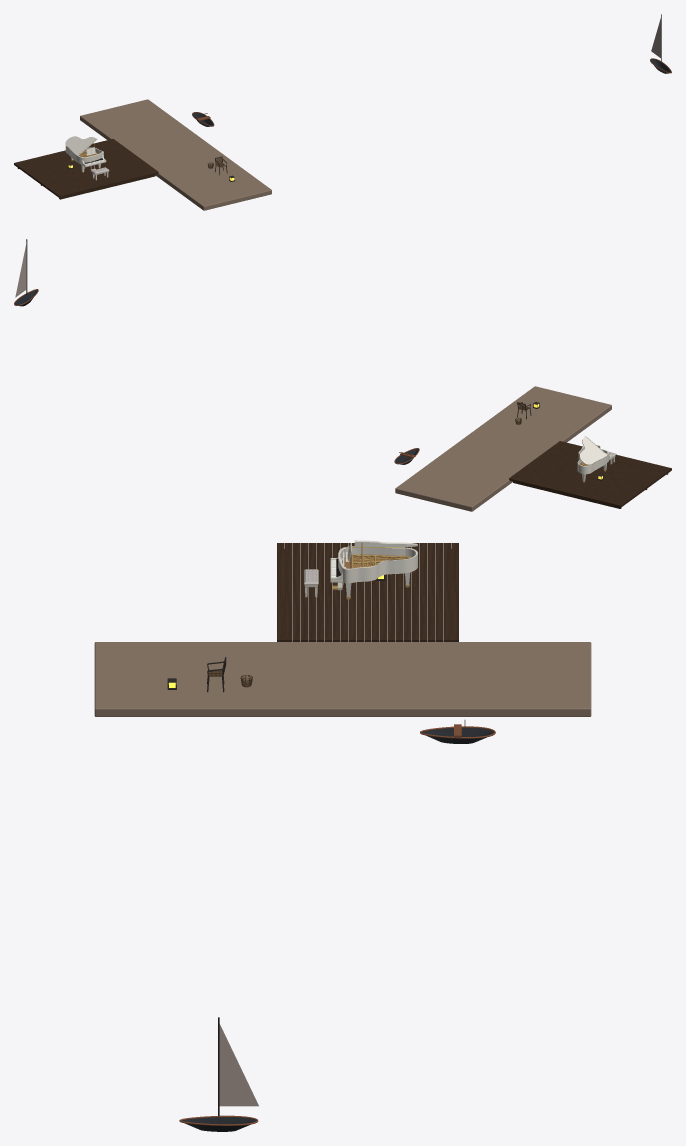
File: piano_seaside_material.glb
The picture shows the model from 3 angles, top to bottom: view 1: azimuth 30°, elevation 25°; view 2: azimuth 150°, elevation 25°; view 3: azimuth 270°, elevation 25°; orthographic projection. The views are drawn at different scales.
Visible parts, largest first — view 1: S01 local sand patch, D01 deck plank 00, P02 raised lid; view 2: S01 local sand patch, D01 deck plank 22, P02 raised lid; view 3: S01 local sand patch, P01 grand piano curved rim and bottom, V02 triangular sail, D01 deck plank 18.
Boxes of the visible parts, x1=… form: S01 local sand patch: x1=80, y1=99, x2=271, y2=210; D01 deck plank 00: x1=57, y1=170, x2=158, y2=197; P02 raised lid: x1=65, y1=136, x2=97, y2=155; S01 local sand patch: x1=395, y1=386, x2=611, y2=511; D01 deck plank 22: x1=509, y1=477, x2=622, y2=507; P02 raised lid: x1=579, y1=436, x2=607, y2=465; S01 local sand patch: x1=94, y1=642, x2=591, y2=716; P01 grand piano curved rim and bottom: x1=338, y1=546, x2=417, y2=583; V02 triangular sail: x1=219, y1=1024, x2=258, y2=1106; D01 deck plank 18: x1=419, y1=543, x2=427, y2=641.
Size of what is drawn, in the model's own units: 44.06 by 3.99 by 16.
16 materials, 1 textured.
